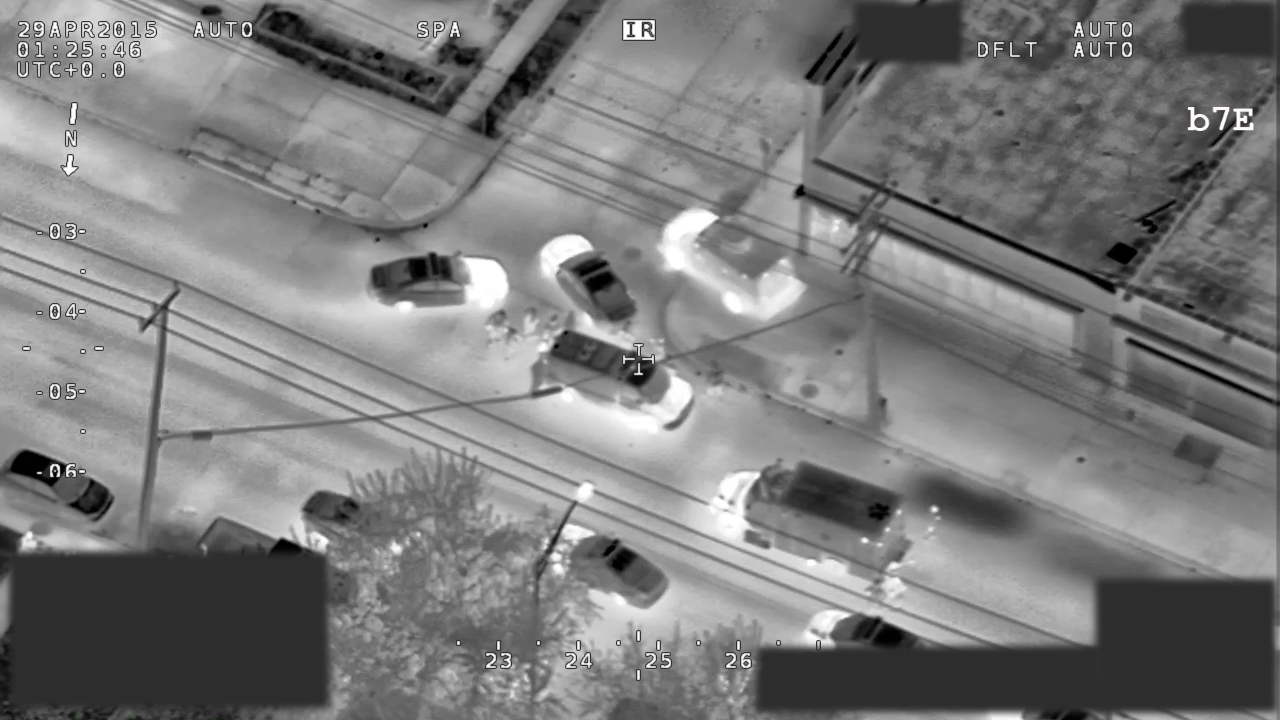vehicle: (707, 455, 917, 589), (658, 202, 810, 325), (535, 330, 698, 434), (542, 523, 673, 612), (537, 228, 642, 335), (302, 486, 432, 567), (1, 445, 117, 529), (365, 252, 508, 312), (804, 607, 928, 651), (189, 514, 303, 558)
